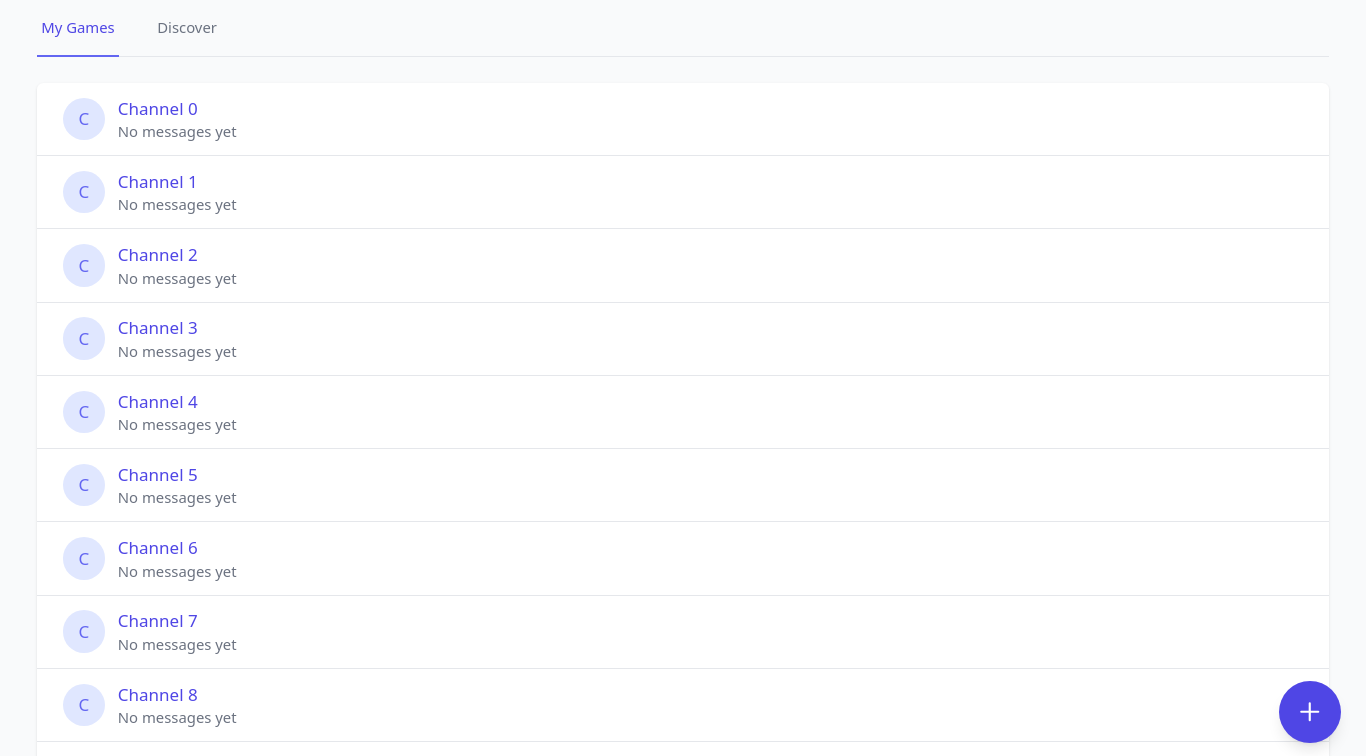
Test case: Lobby › does not cap server admins
Click the button named "Create Channel": [1310, 712] box [1279, 681, 1340, 742]
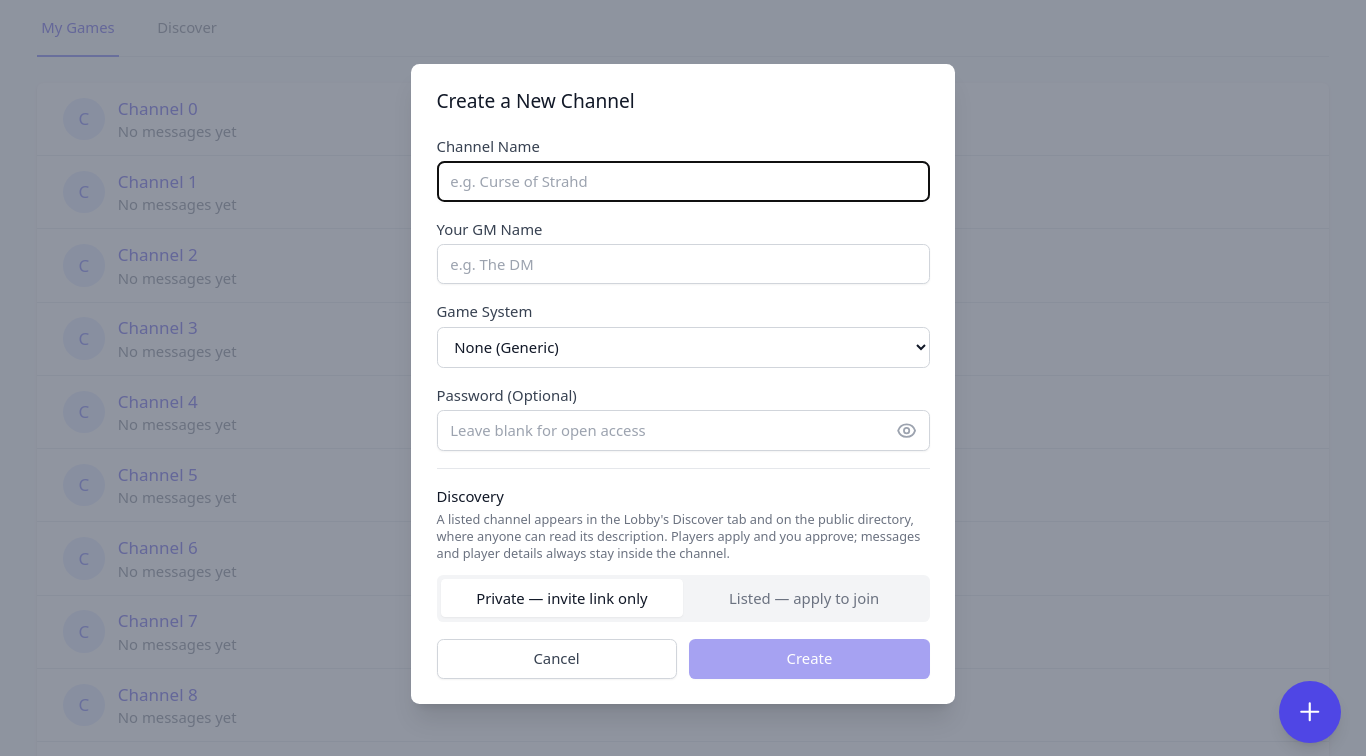
Expected: the heading "Create a New Channel" is shown, [436, 88, 635, 114]
